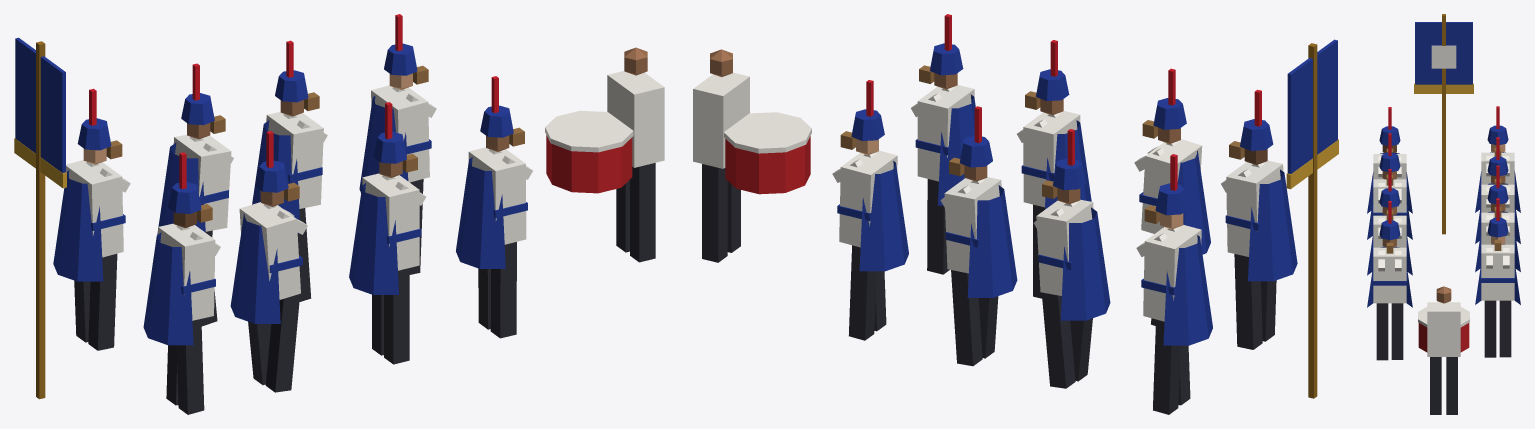
The model's file is baile_chino_2.obj.
The picture shows the model from 3 angles, left to right: view 1: azimuth 30°, elevation 25°; view 2: azimuth 150°, elevation 25°; view 3: azimuth 270°, elevation 25°; orthographic projection. The views are drawn at different scales.
Parts seen in each view (by area): view 1: baile_chino_2; view 2: baile_chino_2; view 3: baile_chino_2.
Boxes of the visible parts, bbox=[...] form: baile_chino_2: bbox=[14, 14, 664, 414]; baile_chino_2: bbox=[693, 14, 1338, 414]; baile_chino_2: bbox=[1367, 14, 1520, 414].
Size of the model in its own units: 5.26 by 2.91 by 1.85.
